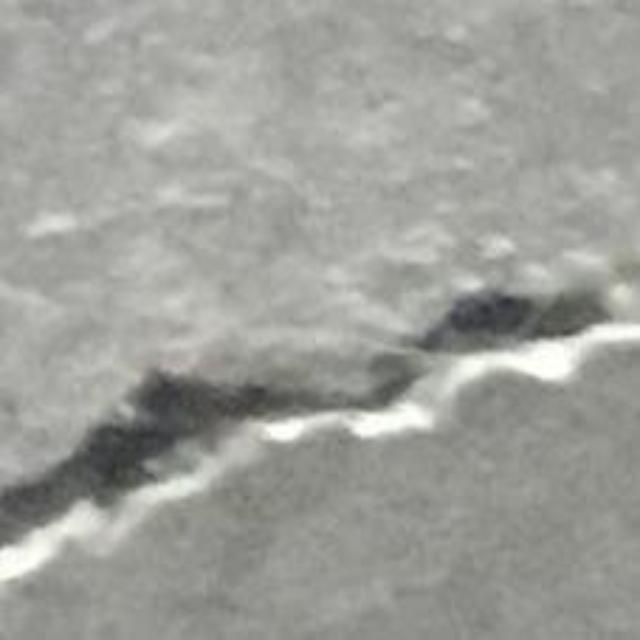crack: (0, 353, 414, 546)
